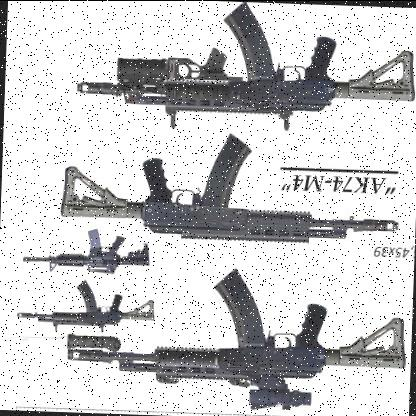rifle: (61, 271, 414, 413), (55, 114, 407, 253), (73, 1, 416, 122), (16, 269, 160, 338), (19, 214, 154, 281)
